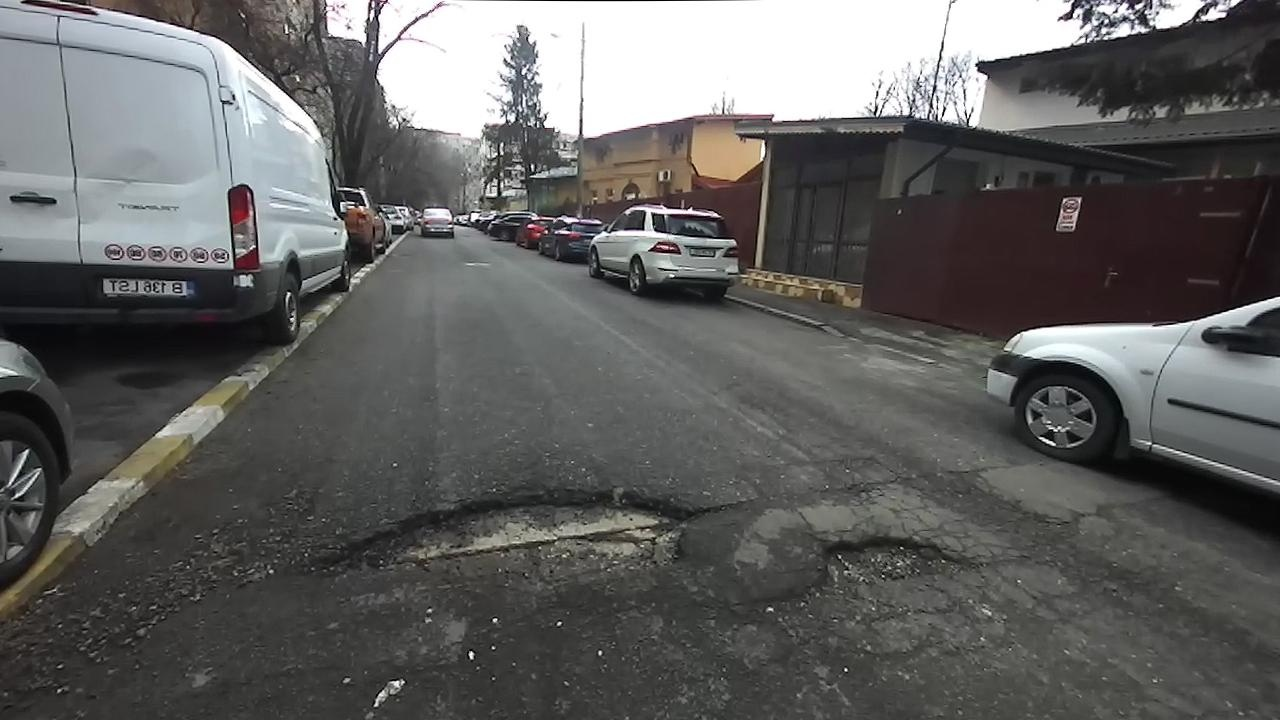pothole: (274, 477, 719, 606), (789, 527, 985, 613)
